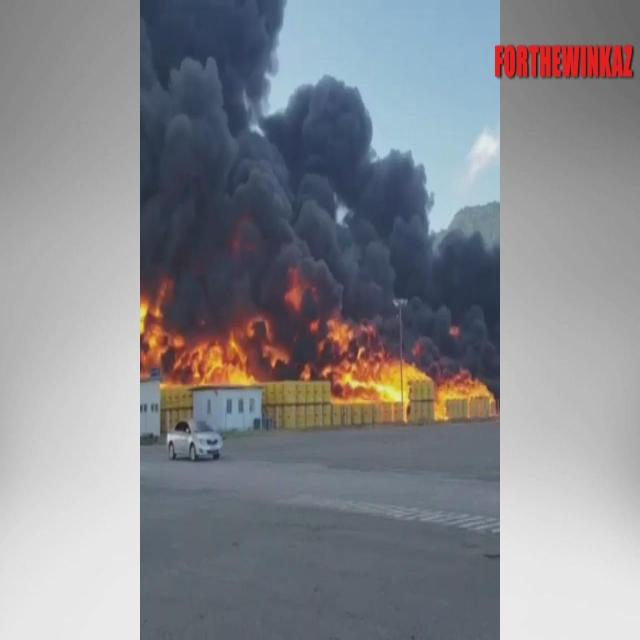Fire: (143, 308, 265, 387), (327, 349, 493, 399)
